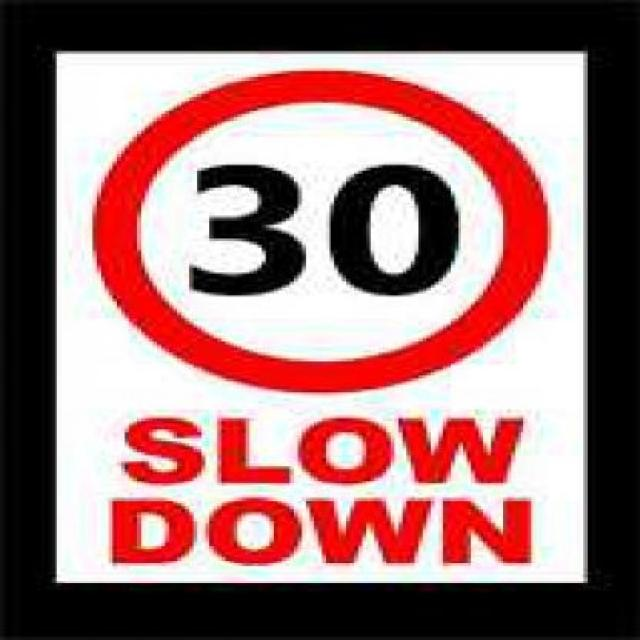forb_speed_over_30: (145, 122, 508, 336)
